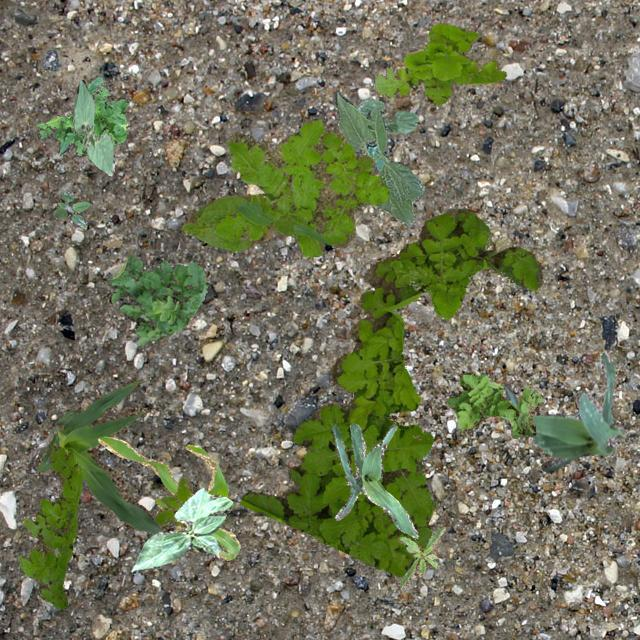crop: (34, 376, 174, 534), (96, 436, 238, 560), (502, 352, 624, 469), (332, 90, 424, 226), (331, 422, 416, 538), (130, 487, 232, 572), (180, 192, 296, 250), (72, 78, 114, 174), (356, 98, 418, 132)
weed: (239, 208, 542, 576), (210, 116, 388, 256), (374, 22, 506, 104), (17, 442, 82, 608), (108, 252, 206, 344), (35, 76, 128, 156), (444, 372, 542, 438), (396, 524, 444, 588), (154, 476, 192, 526), (52, 188, 90, 228)
